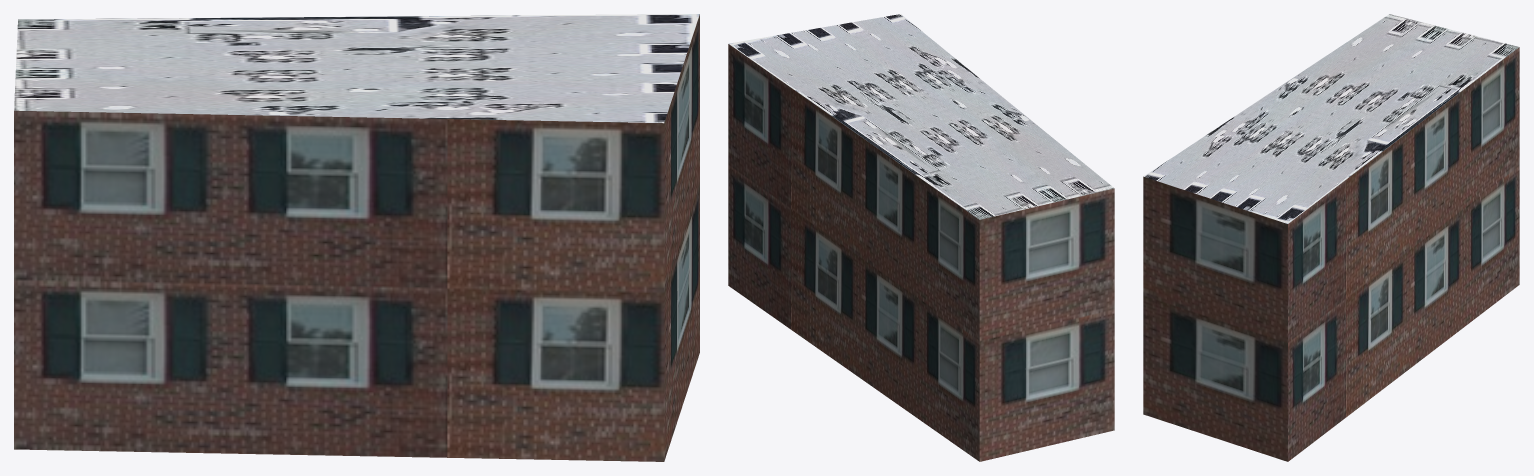
File: ResTex__3368.fbx
3 renders of one model, left to right at view 1: azimuth 30°, elevation 25°; view 2: azimuth 150°, elevation 25°; view 3: azimuth 270°, elevation 25°, orthographic. The views are drawn at different scales.
Visible parts, largest first — view 1: CityEngineMaterial_14_m, CityEngineMaterial_8_m; view 2: CityEngineMaterial_14_m, CityEngineMaterial_8_m; view 3: CityEngineMaterial_14_m, CityEngineMaterial_8_m.
Part boxes in pixels (x1,y1,x2,y2): CityEngineMaterial_14_m: [14, 14, 699, 461]; CityEngineMaterial_8_m: [14, 14, 699, 123]; CityEngineMaterial_14_m: [728, 44, 1114, 461]; CityEngineMaterial_8_m: [728, 14, 1114, 219]; CityEngineMaterial_14_m: [1143, 47, 1519, 461]; CityEngineMaterial_8_m: [1144, 14, 1518, 223].
Bounding box in the file's own units: 11.37 × 6 × 8.6.
Materials: 2 (2 with a texture image).
